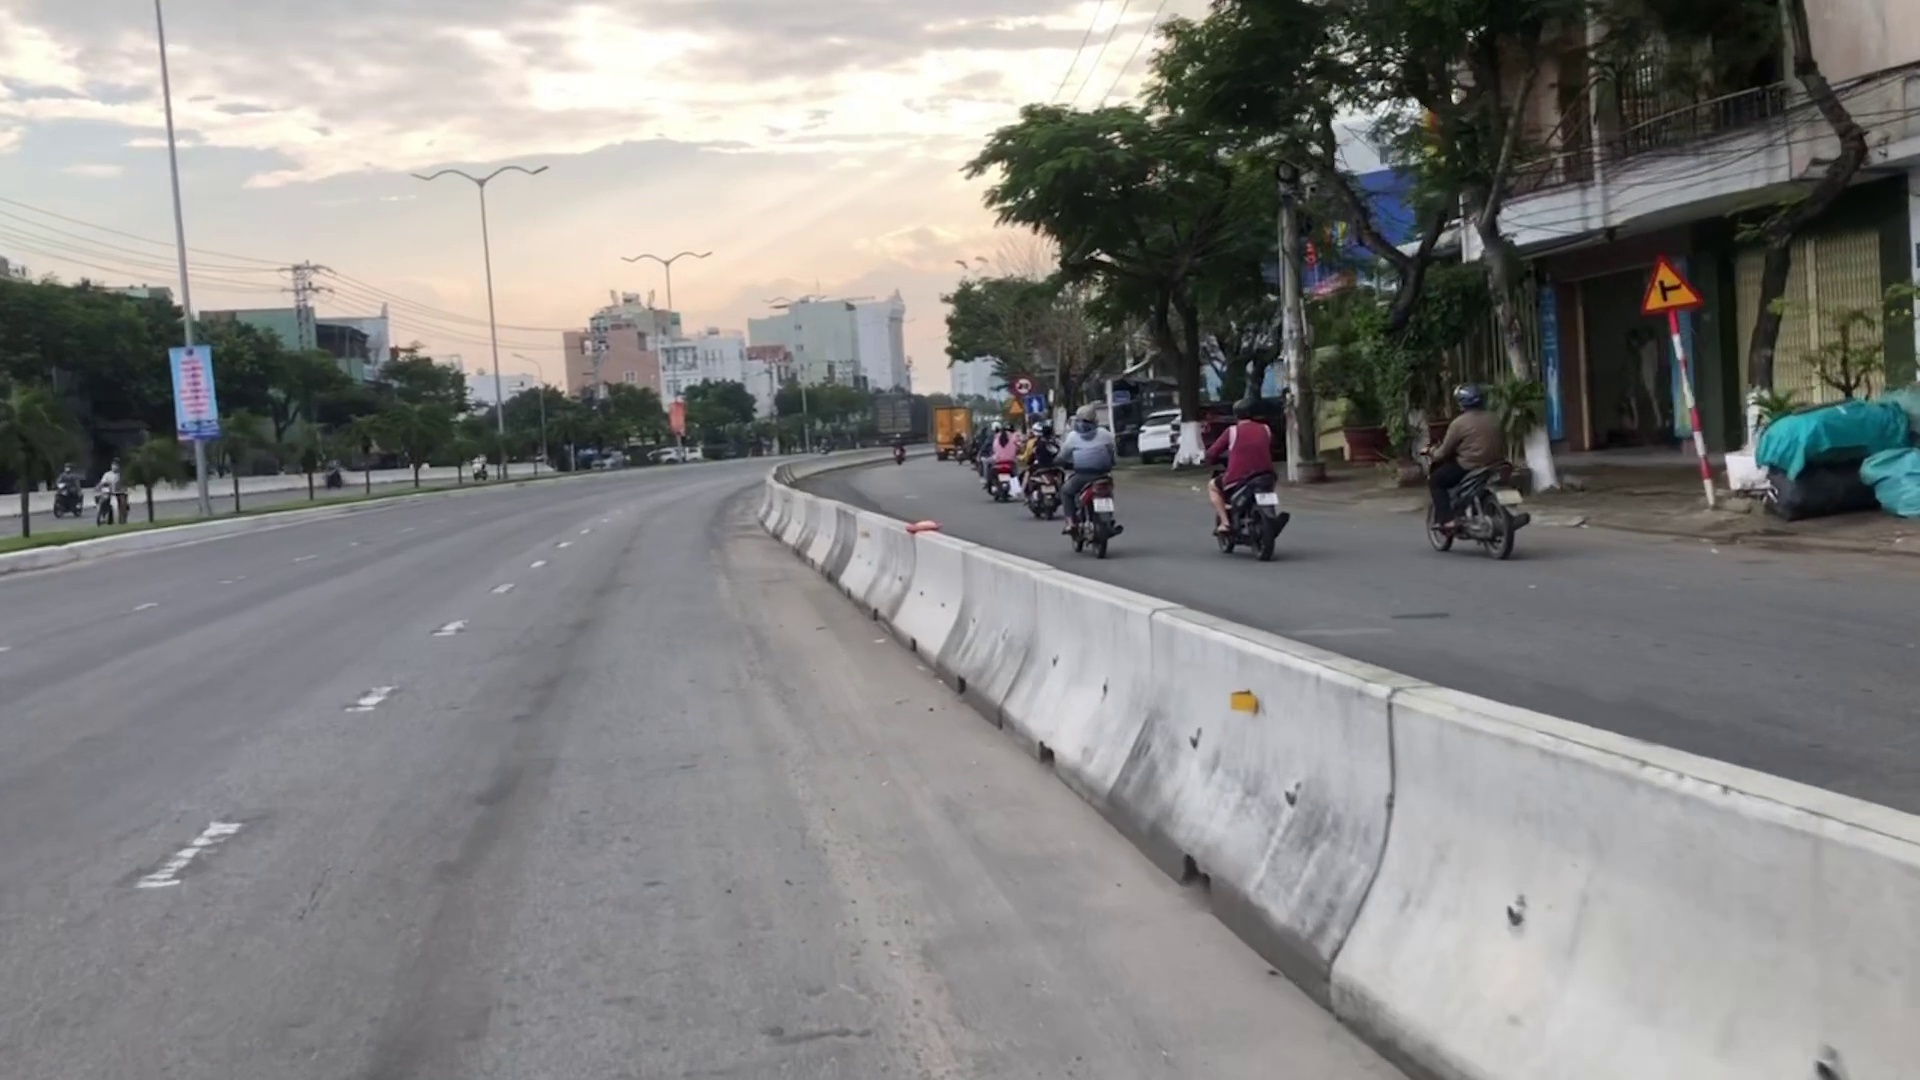Bien khac: (1635, 247, 1702, 319), (1009, 371, 1030, 392), (1025, 400, 1046, 413), (1004, 401, 1025, 413)
